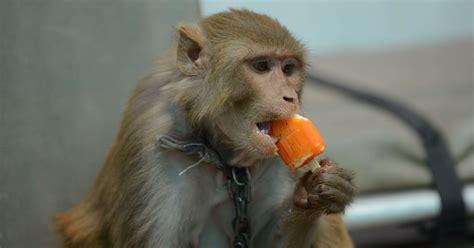monkey: (66, 11, 353, 248)
